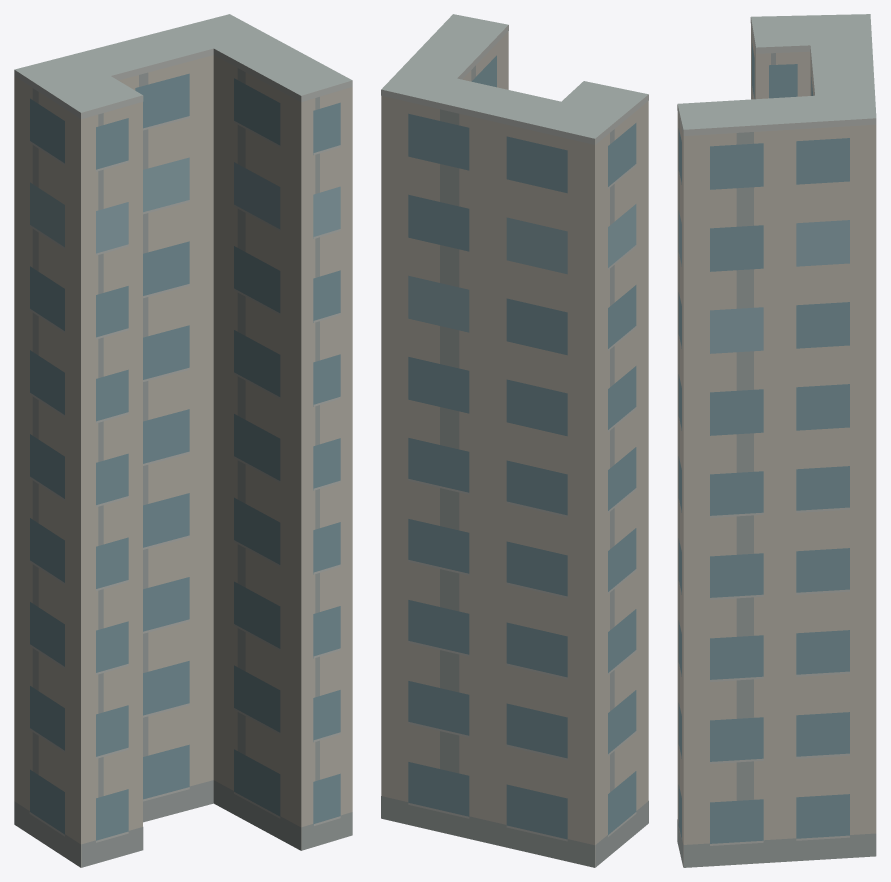
The model's file is survey-upis-32896012.glb.
3 renders of one model, left to right at view 1: azimuth 30°, elevation 25°; view 2: azimuth 150°, elevation 25°; view 3: azimuth 270°, elevation 25°, orthographic. The views are drawn at different scales.
Visible parts, largest first — view 1: survey-upis-32896012.tmp; view 2: survey-upis-32896012.tmp; view 3: survey-upis-32896012.tmp.
Boxes of the visible parts, bbox=[...] form: survey-upis-32896012.tmp: bbox=[14, 14, 352, 867]; survey-upis-32896012.tmp: bbox=[381, 14, 648, 867]; survey-upis-32896012.tmp: bbox=[677, 14, 876, 867].
Size of the model in its own units: 9.6 by 28.5 by 6.97.
